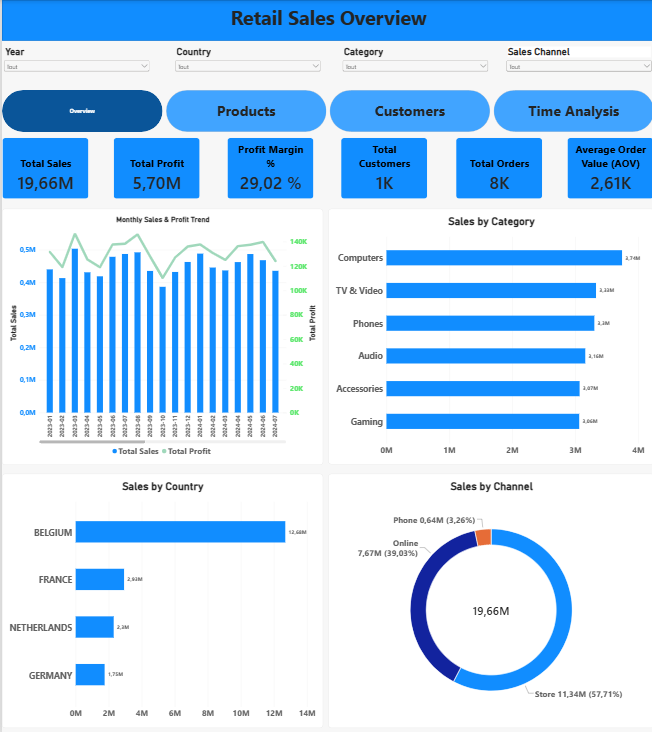

What the dashboard file says about the page in this screenshot:
{"tool":"powerbi","page":{"name":"Overview","canvas":[1600,1800],"ordinal":0},"visuals":[{"type":"shape","box":[0,0,1600.4,100.3],"z":0},{"type":"cardVisual","fields":{"Data":["Measure table.Total Sales"]},"box":[0,336.7,213.8,151.3],"z":1000},{"type":"cardVisual","fields":{"Data":["Measure table.Total Profit"]},"box":[272.4,336.7,213.8,151.3],"z":2000},{"type":"cardVisual","fields":{"Data":["Measure table.Profit Margin %"]},"box":[552.4,336.7,213.8,151.3],"z":3000},{"type":"cardVisual","fields":{"Data":["Measure table.Total Customers"]},"box":[830.5,336.7,213.8,151.3],"z":4000},{"type":"cardVisual","fields":{"Data":["Measure table.Total Orders"]},"box":[1112.3,336.7,213.8,151.3],"z":5000},{"type":"cardVisual","fields":{"Data":["Measure table.Average Order Value (AOV)"]},"box":[1386.6,336.7,213.8,151.3],"z":6000},{"type":"lineClusteredColumnComboChart","title":"Monthly Sales & Profit Trend","fields":{"Y":["Measure table.Total Sales"],"Y2":["Measure table.Total Profit"],"Category":["gold Dim_Date.Year_Month"]},"box":[0,511.9,787.9,629],"z":7000},{"type":"clusteredBarChart","title":"Sales by Category","fields":{"Y":["Measure table.Total Sales"],"Category":["gold Dim_Products.Category"]},"box":[800.2,511.9,800.2,627.2],"z":8000},{"type":"clusteredBarChart","title":"Sales by Country","fields":{"Y":["Measure table.Total Sales"],"Category":["gold Dim_Customers.Country"]},"box":[0,1161.8,787.9,623.7],"z":9000},{"type":"donutChart","title":"Sales by Channel","fields":{"Category":["gold Fact_sales.Sales_Channel"],"Y":["Measure table.Total Sales"]},"box":[800.2,1163.6,800.2,623.7],"z":10000},{"type":"slicer","fields":{"Values":["gold Dim_Date.Year"]},"box":[0,113.6,366.9,90.8],"z":11000},{"type":"slicer","fields":{"Values":["gold Dim_Customers.Country"]},"box":[421.1,113.6,366.9,90.8],"z":12000},{"type":"slicer","fields":{"Values":["gold Dim_Products.Category"]},"box":[829.9,113.6,366.9,90.8],"z":13000},{"type":"slicer","fields":{"Values":["gold Fact_sales.Sales_Channel"]},"box":[1233.5,113.6,366.9,90.8],"z":14000},{"type":"textbox","box":[456,8.7,688.4,90.8],"z":15000},{"type":"pageNavigator","box":[0,220.1,1600.3,103.1],"z":16000}]}

Visuals, with their boxes in screenshot pixels (x1, y1, x2, y2), scaled from the page's 1600x1800 canvas onto the 652x732 screenshot:
shape: l=0, t=0, r=651, b=41
cardVisual - Measure table.Total Sales: l=0, t=137, r=87, b=198
cardVisual - Measure table.Total Profit: l=111, t=137, r=198, b=198
cardVisual - Measure table.Profit Margin %: l=225, t=137, r=312, b=198
cardVisual - Measure table.Total Customers: l=338, t=137, r=426, b=198
cardVisual - Measure table.Total Orders: l=453, t=137, r=540, b=198
cardVisual - Measure table.Average Order Value (AOV): l=565, t=137, r=651, b=198
"Monthly Sales & Profit Trend" lineClusteredColumnComboChart: l=0, t=208, r=321, b=464
"Sales by Category" clusteredBarChart: l=326, t=208, r=651, b=463
"Sales by Country" clusteredBarChart: l=0, t=472, r=321, b=726
"Sales by Channel" donutChart: l=326, t=473, r=651, b=727
slicer - gold Dim_Date.Year: l=0, t=46, r=150, b=83
slicer - gold Dim_Customers.Country: l=172, t=46, r=321, b=83
slicer - gold Dim_Products.Category: l=338, t=46, r=488, b=83
slicer - gold Fact_sales.Sales_Channel: l=503, t=46, r=651, b=83
textbox: l=186, t=4, r=466, b=40
pageNavigator: l=0, t=90, r=651, b=131
